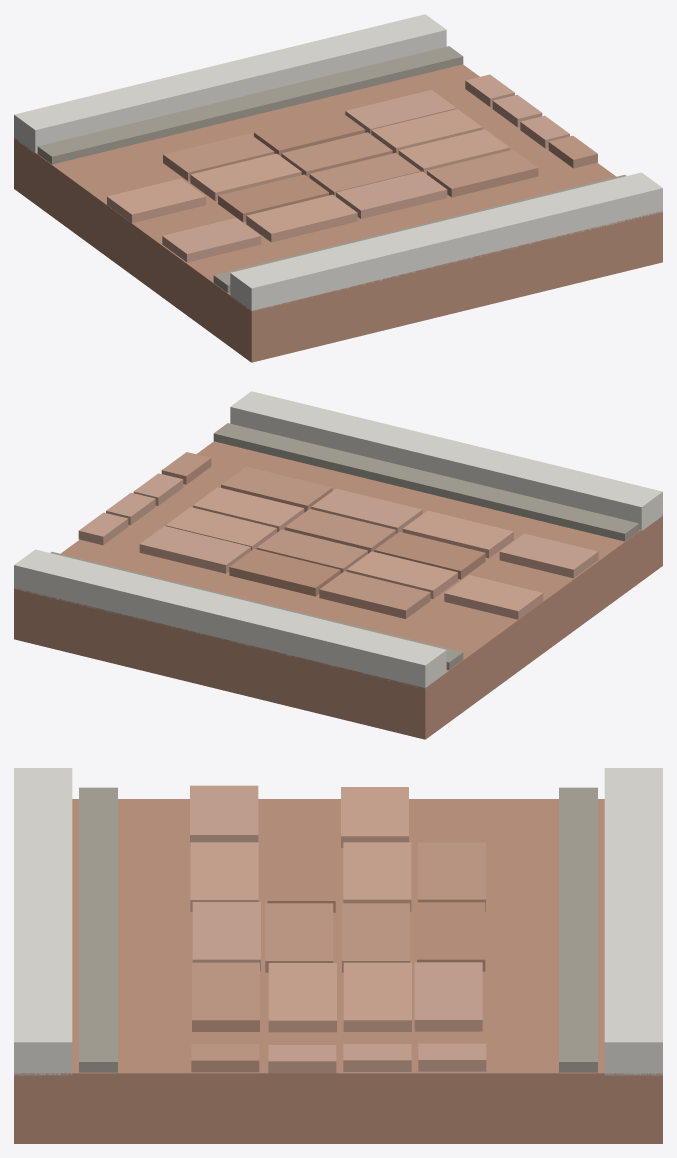
The model's file is ROAD_BRICK.glb.
The picture shows the model from 3 angles, top to bottom: view 1: azimuth 30°, elevation 25°; view 2: azimuth 150°, elevation 25°; view 3: azimuth 270°, elevation 25°; orthographic projection. The views are drawn at different scales.
Visible parts, largest first — view 1: ROAD_BRICK; view 2: ROAD_BRICK; view 3: ROAD_BRICK.
Boxes of the visible parts, x1,y1,x2,y2 form: ROAD_BRICK: (14, 14, 662, 362); ROAD_BRICK: (14, 391, 662, 739); ROAD_BRICK: (14, 768, 662, 1143).
Size of the model in its own units: 1 by 0.1725 by 1.
